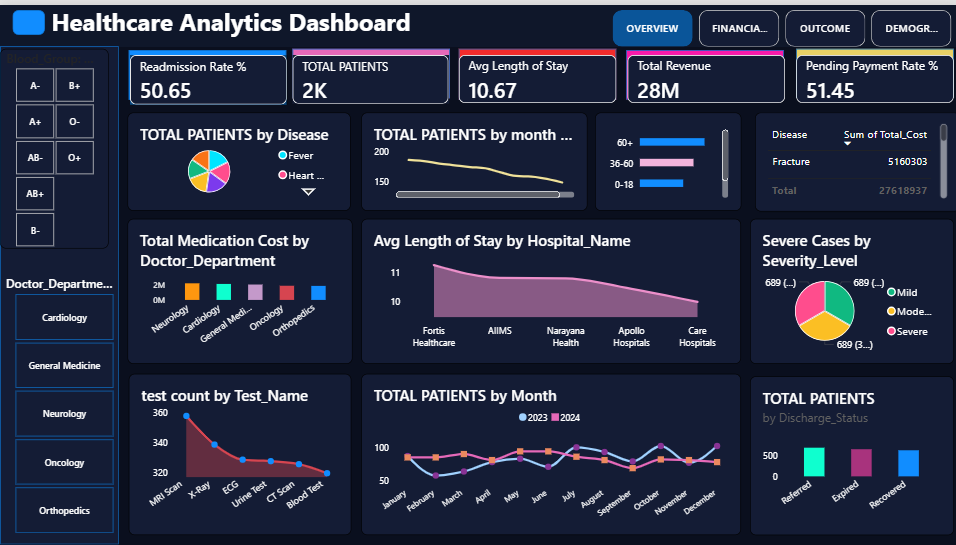

This screenshot's page, from the dashboard's own definition file:
{"tool":"powerbi","page":{"name":"OVERVIEW","canvas":[1280,720],"ordinal":0},"visuals":[{"type":"shape","box":[0,0,1280,56],"z":0},{"type":"textbox","box":[16,0,1248,56],"z":1000},{"type":"pieChart","fields":{"Category":["HealthcareData.Disease"],"Y":["HealthcareData.TOTAL PATIENTS"]},"box":[170.7,143.6,297.2,130.8],"z":2000},{"type":"lineChart","title":"TOTAL PATIENTS by Month","fields":{"Category":["HealthcareData.Admission_Date.Variation.Date Hierarchy.Month"],"Series":["HealthcareData.Admission_Date.Variation.Date Hierarchy.Year"],"Y":["HealthcareData.TOTAL PATIENTS"]},"box":[481.7,491.7,506.7,215],"z":3000},{"type":"clusteredBarChart","fields":{"Category":["HealthcareData.Age_Group"],"Y":["HealthcareData.TOTAL PATIENTS"]},"box":[793.6,143.6,194.8,130.8],"z":4000},{"type":"clusteredColumnChart","fields":{"Category":["HealthcareData.Discharge_Status"],"Y":["HealthcareData.TOTAL PATIENTS"]},"box":[1000,495,271.7,211.7],"z":5000},{"type":"stackedAreaChart","fields":{"Category":["HealthcareData.Test_Name"],"Y":["HealthcareData.test count"]},"box":[171,491,296.7,215],"z":6000},{"type":"columnChart","fields":{"Category":["HealthcareData.Doctor_Department"],"Y":["HealthcareData.Total Medication Cost"]},"box":[170.7,284.4,300.1,193.4],"z":7000},{"type":"lineChart","fields":{"Category":["HealthcareData.Hospital_Name"],"Y":["HealthcareData.Avg Length of Stay"]},"box":[481.7,285,506.7,193.3],"z":8000},{"type":"tableEx","fields":{"Values":["HealthcareData.Disease","Sum(HealthcareData.Total_Cost)"]},"box":[1006.7,143.3,273.3,131.7],"z":9000},{"type":"pieChart","fields":{"Category":["HealthcareData.Severity_Level"],"Y":["HealthcareData.Severe Cases"]},"box":[1000,285,271.7,193.3],"z":10000},{"type":"shape","box":[171.1,60,210,66.7],"z":11000},{"type":"cardVisual","fields":{"Data":["HealthcareData.Readmission Rate %"]},"box":[173.1,66.4,209.2,66.4],"z":12000},{"type":"shape","box":[390,58,210,66],"z":13000},{"type":"shape","box":[0,55.7,158.6,664.3],"z":14000},{"type":"slicer","fields":{"Values":["HealthcareData.Blood_Group"]},"box":[0,59.1,144.8,266.6],"z":15000},{"type":"slicer","fields":{"Values":["HealthcareData.Doctor_Department"]},"box":[0,360,170,346],"z":16000},{"type":"shape","box":[612,58,210,68],"z":17000},{"type":"cardVisual","fields":{"Data":["HealthcareData.Avg Length of Stay"]},"box":[612,66,210,64],"z":18000},{"type":"shape","box":[835,60,210,66],"z":19000},{"type":"shape","box":[1061.4,59,210,65.7],"z":20000},{"type":"cardVisual","fields":{"Data":["HealthcareData.Total Revenue"]},"box":[836,66,210,64],"z":21000},{"type":"cardVisual","fields":{"Data":["HealthcareData.Pending Payment Rate %"]},"box":[1062,66,210,64],"z":22000},{"type":"lineChart","fields":{"Category":["HealthcareData.month num"],"Y":["HealthcareData.TOTAL PATIENTS"]},"box":[482.1,143.6,301.5,130.8],"z":23000},{"type":"cardVisual","fields":{"Data":["HealthcareData.TOTAL PATIENTS"]},"box":[390,66,208.8,65],"z":24000},{"type":"shape","box":[16.7,6.7,43.3,33.3],"z":25000},{"type":"textbox","box":[685.3,23.1,49.1,31.7],"z":26000},{"type":"pageNavigator","box":[816.8,7.2,454.8,49.5],"z":26001}]}

Visuals, with their boxes in screenshot pixels (x1, y1, x2, y2), scaled from the page's 1280x720 canvas onto the 956x545 screenshot:
shape: region(0, 0, 955, 42)
textbox: region(12, 0, 944, 42)
pieChart - HealthcareData.Disease x HealthcareData.TOTAL PATIENTS: region(127, 109, 349, 208)
"TOTAL PATIENTS by Month" lineChart: region(360, 372, 738, 535)
clusteredBarChart - HealthcareData.Age_Group x HealthcareData.TOTAL PATIENTS: region(593, 109, 738, 208)
clusteredColumnChart - HealthcareData.Discharge_Status x HealthcareData.TOTAL PATIENTS: region(747, 375, 950, 535)
stackedAreaChart - HealthcareData.Test_Name x HealthcareData.test count: region(128, 372, 349, 534)
columnChart - HealthcareData.Doctor_Department x HealthcareData.Total Medication Cost: region(127, 215, 352, 362)
lineChart - HealthcareData.Hospital_Name x HealthcareData.Avg Length of Stay: region(360, 216, 738, 362)
tableEx - HealthcareData.Disease x Sum(HealthcareData.Total_Cost): region(752, 108, 955, 208)
pieChart - HealthcareData.Severity_Level x HealthcareData.Severe Cases: region(747, 216, 950, 362)
shape: region(128, 45, 285, 96)
cardVisual - HealthcareData.Readmission Rate %: region(129, 50, 286, 101)
shape: region(291, 44, 448, 94)
shape: region(0, 42, 118, 544)
slicer - HealthcareData.Blood_Group: region(0, 45, 108, 247)
slicer - HealthcareData.Doctor_Department: region(0, 272, 127, 534)
shape: region(457, 44, 614, 95)
cardVisual - HealthcareData.Avg Length of Stay: region(457, 50, 614, 98)
shape: region(624, 45, 780, 95)
shape: region(793, 45, 950, 94)
cardVisual - HealthcareData.Total Revenue: region(624, 50, 781, 98)
cardVisual - HealthcareData.Pending Payment Rate %: region(793, 50, 950, 98)
lineChart - HealthcareData.month num x HealthcareData.TOTAL PATIENTS: region(360, 109, 585, 208)
cardVisual - HealthcareData.TOTAL PATIENTS: region(291, 50, 447, 99)
shape: region(12, 5, 45, 30)
textbox: region(512, 17, 549, 41)
pageNavigator: region(610, 5, 950, 43)
